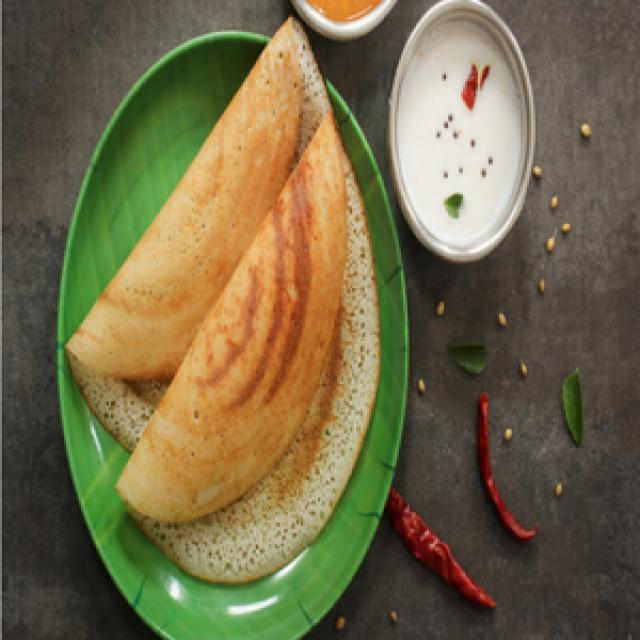dosa: (108, 107, 390, 596), (50, 10, 308, 377)
